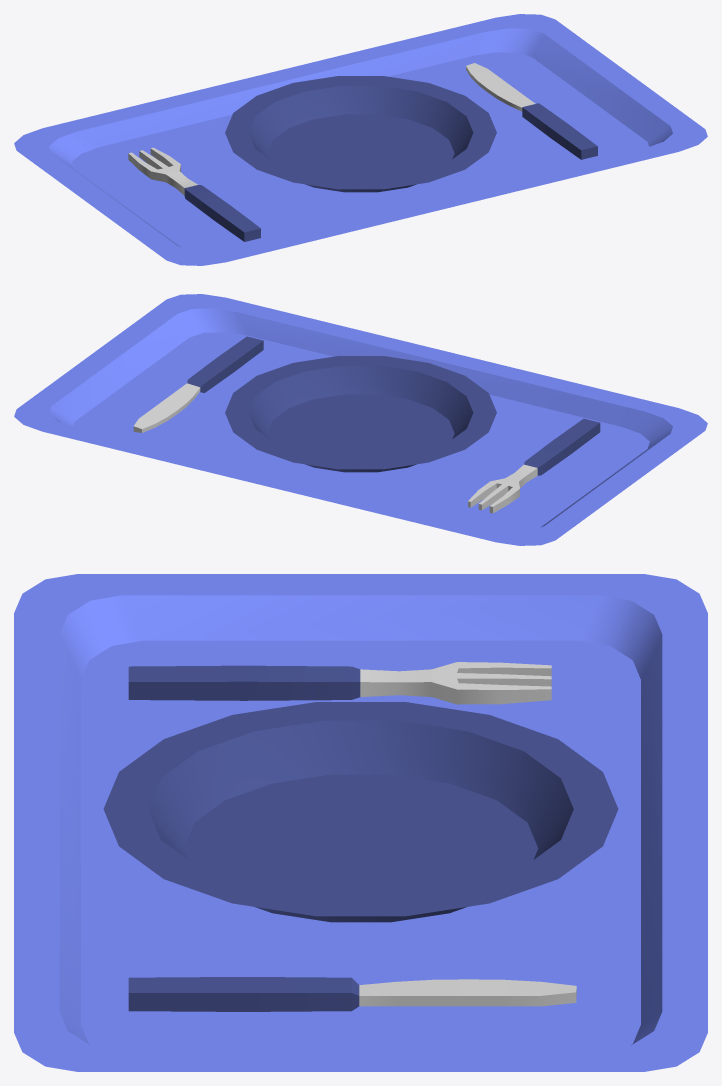
The model's file is Bandeja.fbx.
3 renders of one model, top to bottom at view 1: azimuth 30°, elevation 25°; view 2: azimuth 150°, elevation 25°; view 3: azimuth 270°, elevation 25°, orthographic. The views are drawn at different scales.
Visible parts, largest first — view 1: Plane.001; view 2: Plane.001; view 3: Plane.001.
Boxes of the visible parts, x1,y1,x2,y2 form: Plane.001: (14, 14, 707, 265); Plane.001: (14, 294, 707, 545); Plane.001: (14, 574, 707, 1071).
Size of the model in its own units: 122 by 4.94 by 72.17.
